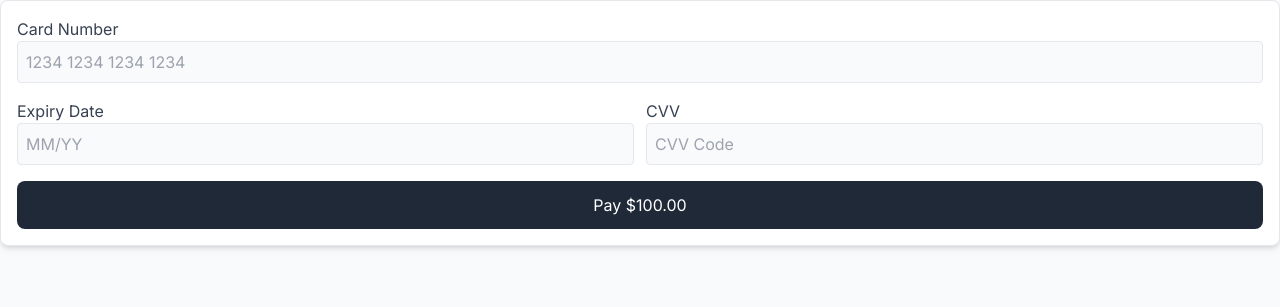
Scenario: PaymentCard Component › validates CVV input
// Enter invalid CVV
Step 1. Type "12" into the field labelled "CVV" → (954, 144), box 646,123 -> 1263,165
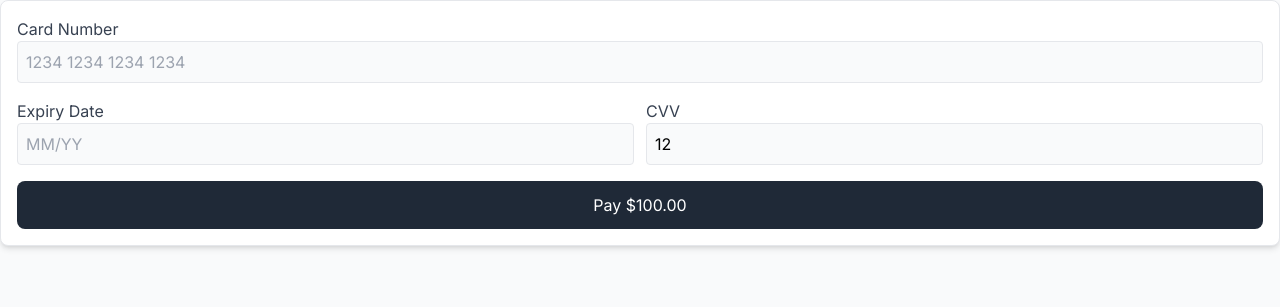
Step 2. Submit the form
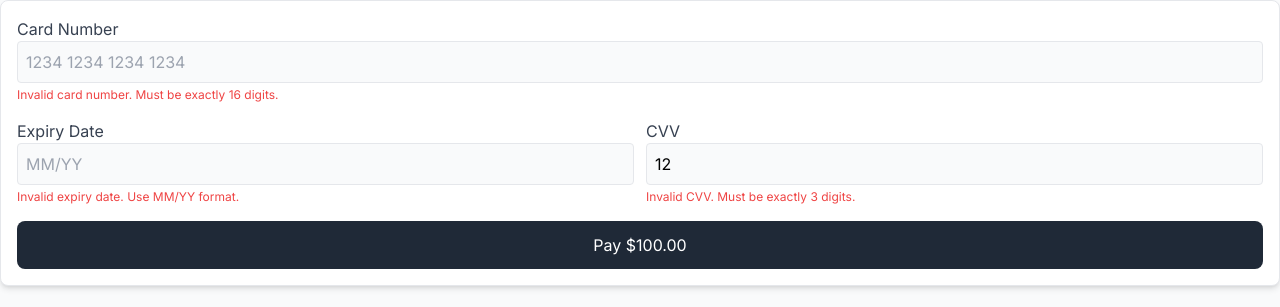
Result: the text "Invalid CVV. Must be exactly 3 digits." is shown at 646,189 -> 855,204
